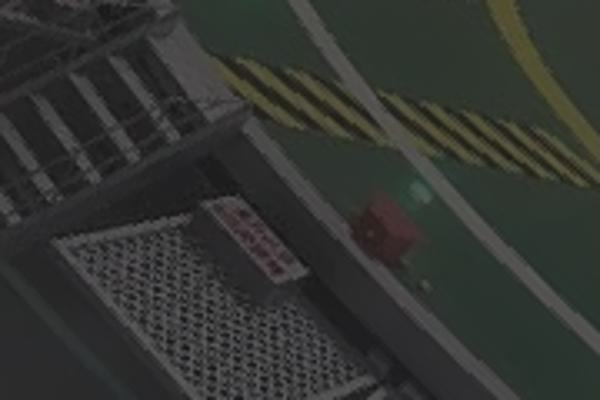Apron: (501, 3, 592, 152)
